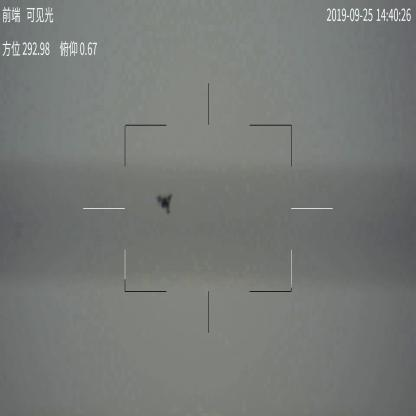uav: (154, 192, 174, 216)
